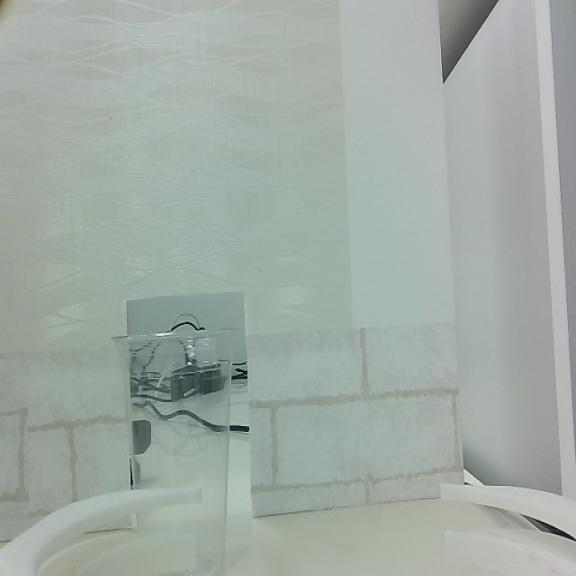Plastik: (110, 328, 241, 576)
